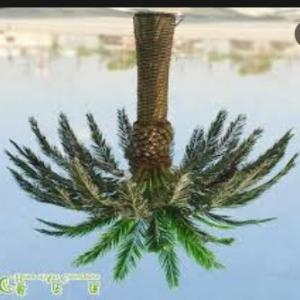palm tree: (3, 9, 299, 288)
